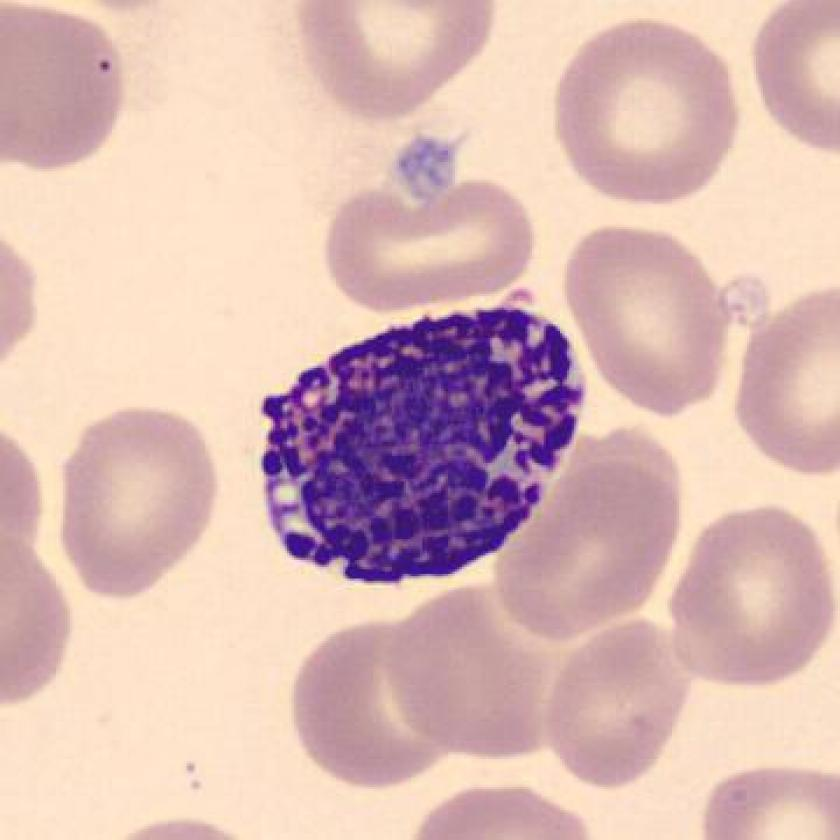basophil: (251, 288, 591, 584)
